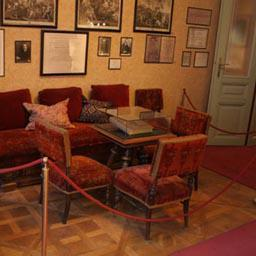Otro Obstaculo: (9, 162, 255, 254)
